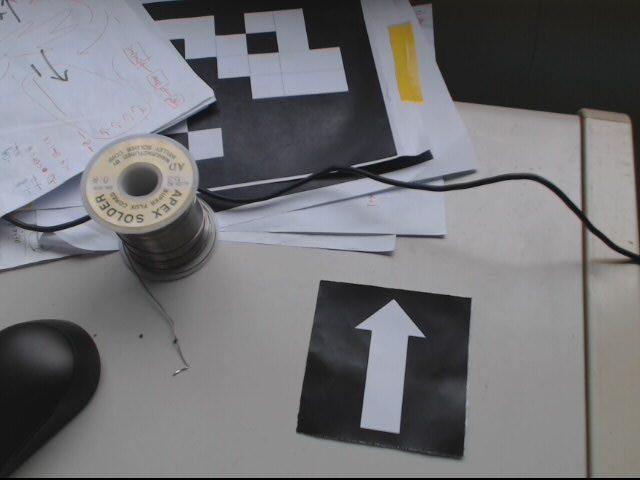straight: (296, 278, 468, 448)
